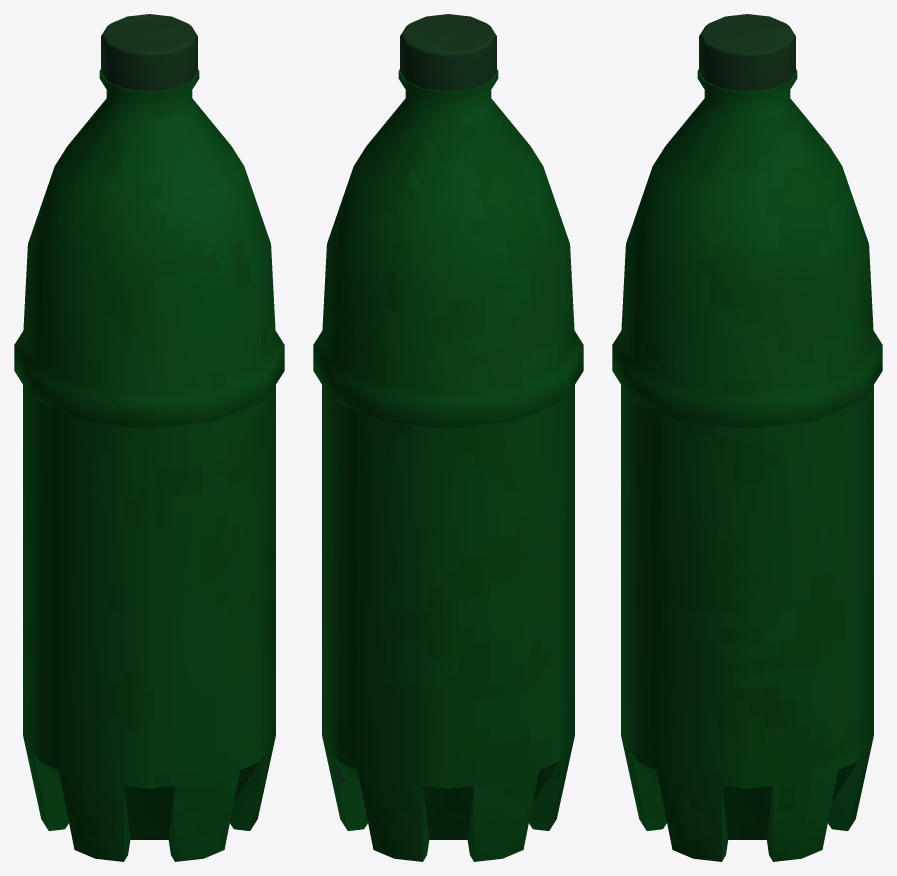
Rendered from bottle.obj.
3 views of the same model, side by side, from view 1: azimuth 30°, elevation 25°; view 2: azimuth 150°, elevation 25°; view 3: azimuth 270°, elevation 25° (orthographic).
Visible parts, largest first — view 1: bottle; view 2: bottle; view 3: bottle.
Boxes of the visible parts, bbox=[...] form: bottle: bbox=[14, 14, 284, 861]; bottle: bbox=[313, 14, 583, 861]; bottle: bbox=[612, 14, 882, 861].
Size of the model in its own units: 0.2914 by 0.9344 by 0.2914.
